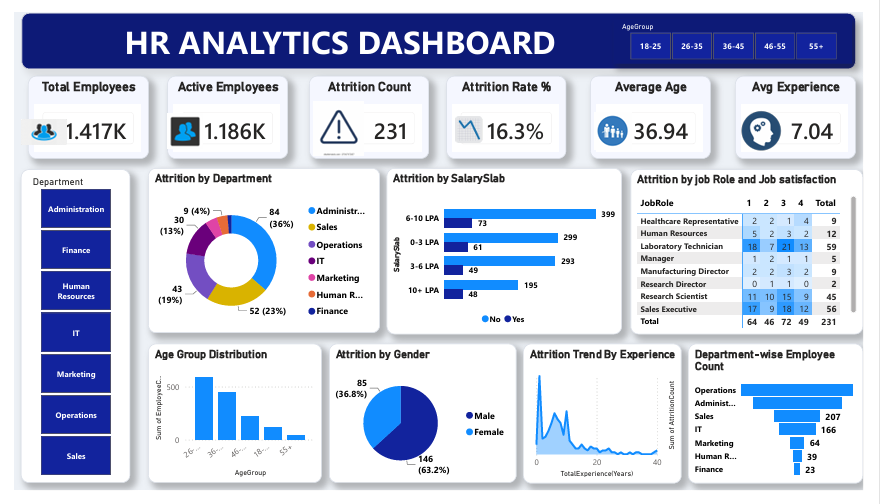

Layout of this report page (visuals, bound fields, positions):
{"tool":"powerbi","page":{"name":"HR Analysis","canvas":[1280,720],"ordinal":0},"visuals":[{"type":"textbox","box":[10,0,1259,85],"z":0},{"type":"cardVisual","title":"Total Employees","fields":{"Data":["CountNonNull(HR_analysis.EmpID)"]},"box":[20.2,95,181.4,125.3],"z":1},{"type":"cardVisual","title":"Active Employees","fields":{"Data":["CountNonNull(HR_analysis.EmployeeCount)"]},"box":[230.4,95,181.4,125.3],"z":6},{"type":"cardVisual","title":"Attrition Count","fields":{"Data":["Sum(HR_analysis.AttritionCount)"]},"box":[443.5,95,181.4,125.3],"z":7},{"type":"cardVisual","title":"Attrition Rate %","fields":{"Data":["HR_analysis.Attrition Rate %"]},"box":[650.9,95,181.4,125.3],"z":8},{"type":"cardVisual","title":"Average Age","fields":{"Data":["Avg(HR_analysis.Age)"]},"box":[868.3,95,181.4,125.3],"z":9},{"type":"cardVisual","title":"Avg Experience","fields":{"Data":["Avg(HR_analysis.YearsatCompany)"]},"box":[1087.2,95,181.4,125.3],"z":10},{"type":"image","box":[230.4,136.8,53.3,83.5],"z":11},{"type":"image","box":[868.3,149.8,67.7,56.2],"z":12},{"type":"image","box":[1087.2,133.9,79.2,86.4],"z":13},{"type":"image","box":[10.1,149.8,67.7,60.5],"z":14},{"type":"image","box":[443.5,133.9,90.7,82.1],"z":15},{"type":"image","box":[662.4,155.5,46.1,40.3],"z":16},{"type":"donutChart","title":"Attrition by Department","fields":{"Category":["HR_analysis.Department"],"Y":["Sum(HR_analysis.AttritionCount)"]},"box":[201.4,234.3,350,249],"z":17},{"type":"clusteredBarChart","title":"Attrition by SalarySlab","fields":{"Category":["HR_analysis.SalarySlab"],"Y":["CountNonNull(HR_analysis.EmpID)"],"Series":["HR_analysis.Attrition"]},"box":[561.4,234.3,355,251],"z":18},{"type":"pivotTable","title":"Attrition by job Role and Job satisfaction","fields":{"Rows":["HR_analysis.JobRole"],"Values":["Sum(HR_analysis.AttritionCount)"],"Columns":["HR_analysis.JobSatisfaction"]},"box":[928.6,235.7,351.4,249.1],"z":19},{"type":"columnChart","title":" Age Group Distribution","fields":{"Category":["HR_analysis.AgeGroup"],"Y":["Sum(HR_analysis.EmployeeCount)"]},"box":[201.4,498.6,261.4,210],"z":20},{"type":"pieChart","title":"Attrition by Gender","fields":{"Category":["HR_analysis.Gender"],"Y":["Sum(HR_analysis.AttritionCount)"]},"box":[474.3,498.6,282.9,210],"z":21},{"type":"areaChart","title":"Attrition Trend By Experience","fields":{"Category":["HR_analysis.TotalExperience(Years)"],"Y2":["Sum(HR_analysis.AttritionCount)"]},"box":[767.1,498.6,238.6,211.4],"z":22},{"type":"funnel","title":"Department-wise Employee Count","fields":{"Category":["HR_analysis.Department"],"Y":["CountNonNull(HR_analysis.EmpID)"]},"box":[1015.7,498.6,264.3,211.4],"z":23},{"type":"slicer","fields":{"Values":["HR_analysis.Department"]},"box":[8.6,235.7,165.7,472.9],"z":24},{"type":"slicer","fields":{"Values":["HR_analysis.AgeGroup"]},"box":[902.9,8.6,361,68],"z":25}]}

Visuals, with their boxes in screenshot pixels (x1, y1, x2, y2), scaled from the page's 1280x720 canvas onto the 880x504 screenshot:
textbox: [7,0,872,59]
"Total Employees" cardVisual: [14,66,139,154]
"Active Employees" cardVisual: [158,66,283,154]
"Attrition Count" cardVisual: [305,66,430,154]
"Attrition Rate %" cardVisual: [447,66,572,154]
"Average Age" cardVisual: [597,66,722,154]
"Avg Experience" cardVisual: [747,66,872,154]
image: [158,96,195,154]
image: [597,105,644,144]
image: [747,94,802,154]
image: [7,105,53,147]
image: [305,94,367,151]
image: [455,109,487,137]
"Attrition by Department" donutChart: [138,164,379,338]
"Attrition by SalarySlab" clusteredBarChart: [386,164,630,340]
"Attrition by job Role and Job satisfaction" pivotTable: [638,165,879,339]
" Age Group Distribution" columnChart: [138,349,318,496]
"Attrition by Gender" pieChart: [326,349,521,496]
"Attrition Trend By Experience" areaChart: [527,349,691,497]
"Department-wise Employee Count" funnel: [698,349,879,497]
slicer - HR_analysis.Department: [6,165,120,496]
slicer - HR_analysis.AgeGroup: [621,6,869,54]
